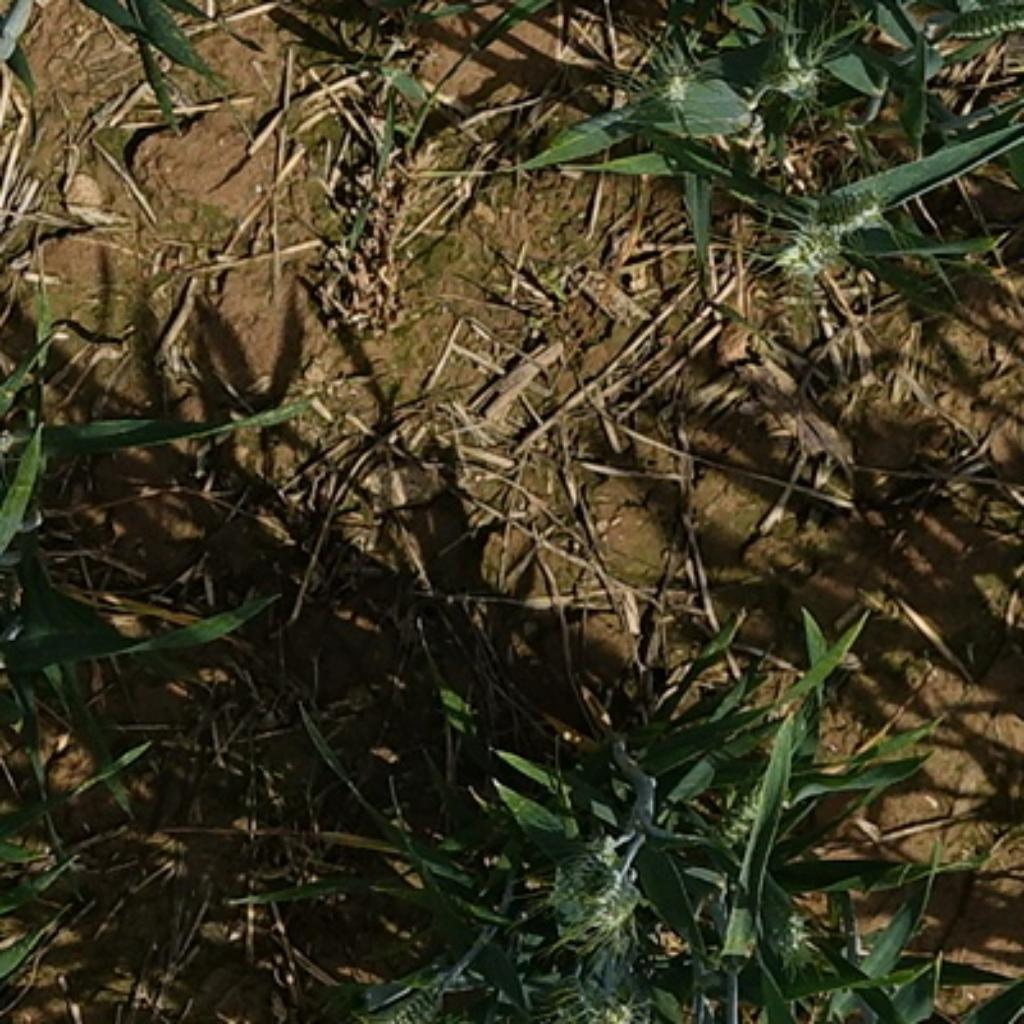0-0: (629, 58, 744, 138), (539, 944, 635, 1024), (702, 776, 794, 859), (542, 883, 650, 952), (537, 837, 622, 913), (759, 38, 836, 115), (361, 968, 463, 1024), (772, 900, 831, 988), (801, 184, 883, 245), (765, 222, 847, 279), (942, 0, 1024, 48)
